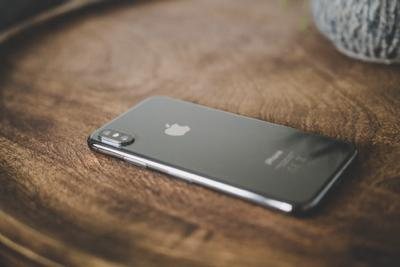cell-phone: (84, 92, 362, 218)
